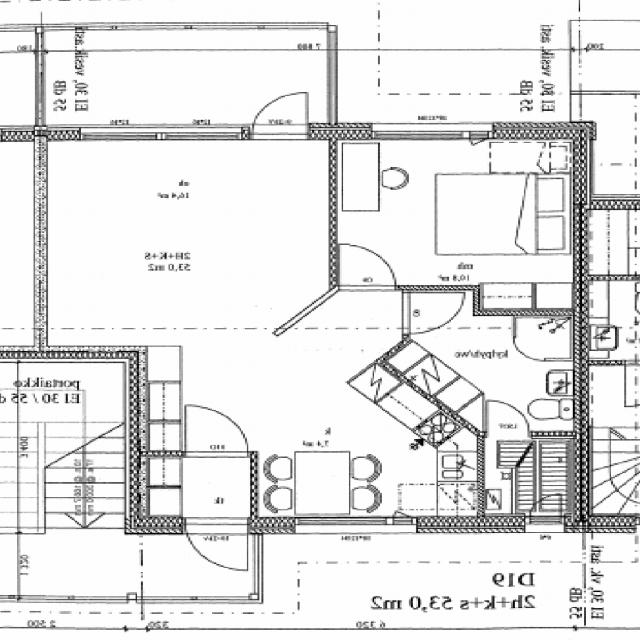door: (186, 518, 248, 579), (186, 406, 248, 457), (255, 82, 309, 138), (402, 292, 467, 334), (340, 245, 394, 290), (485, 398, 530, 437)
